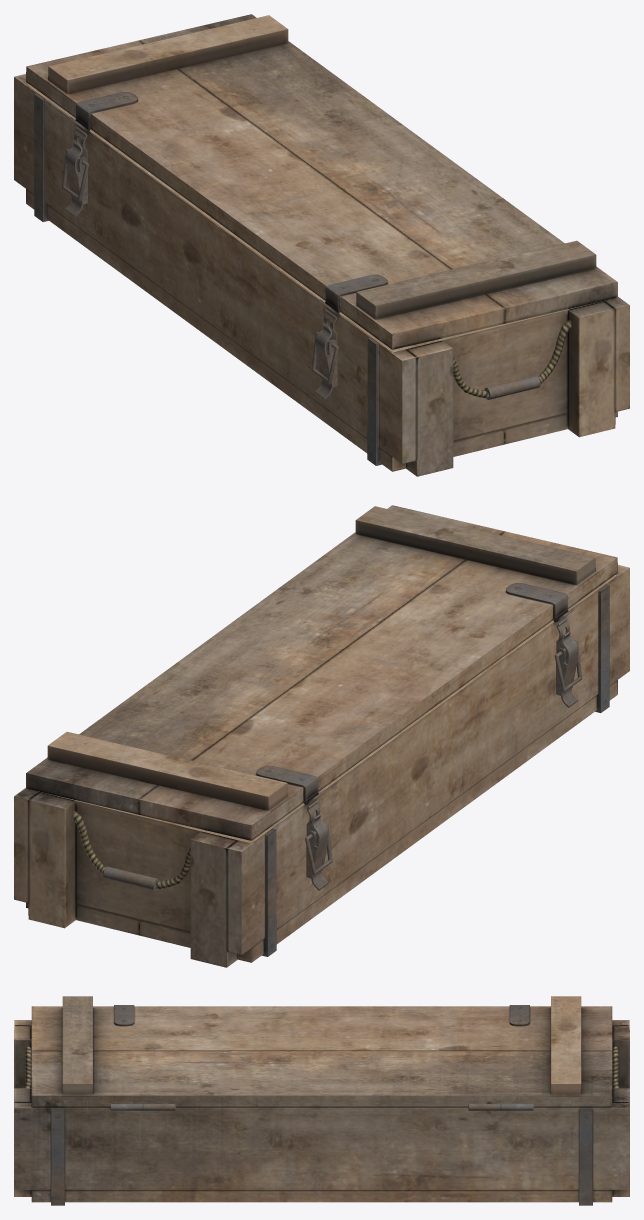
Rendered from dfdfd.glb.
3 renders of one model, top to bottom at view 1: azimuth 30°, elevation 25°; view 2: azimuth 150°, elevation 25°; view 3: azimuth 270°, elevation 25°, orthographic. The views are drawn at different scales.
Visible parts, largest first — view 1: AmmoBox04_cap, AmmoBox04_AmmoBox_0; view 2: AmmoBox04_cap, AmmoBox04_AmmoBox_0; view 3: AmmoBox04_AmmoBox_0, AmmoBox04_cap.
Part boxes in pixels (left/top/right/bottom): AmmoBox04_cap: left=26, top=14, right=617, bottom=349; AmmoBox04_AmmoBox_0: left=14, top=74, right=629, bottom=476; AmmoBox04_cap: left=26, top=505, right=617, bottom=840; AmmoBox04_AmmoBox_0: left=14, top=565, right=629, bottom=967; AmmoBox04_AmmoBox_0: left=14, top=1020, right=629, bottom=1205; AmmoBox04_cap: left=31, top=996, right=612, bottom=1107.
Bounding box in the file's own units: 0.9963 × 0.5984 × 2.75.
Materials: 1 (1 with a texture image).
